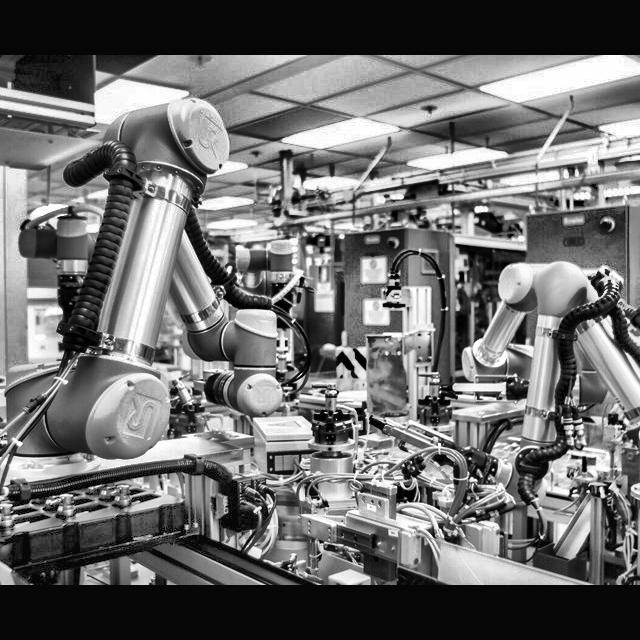robot: (0, 114, 305, 464), (509, 261, 640, 533), (458, 258, 602, 397), (0, 193, 112, 325), (232, 231, 325, 313)
